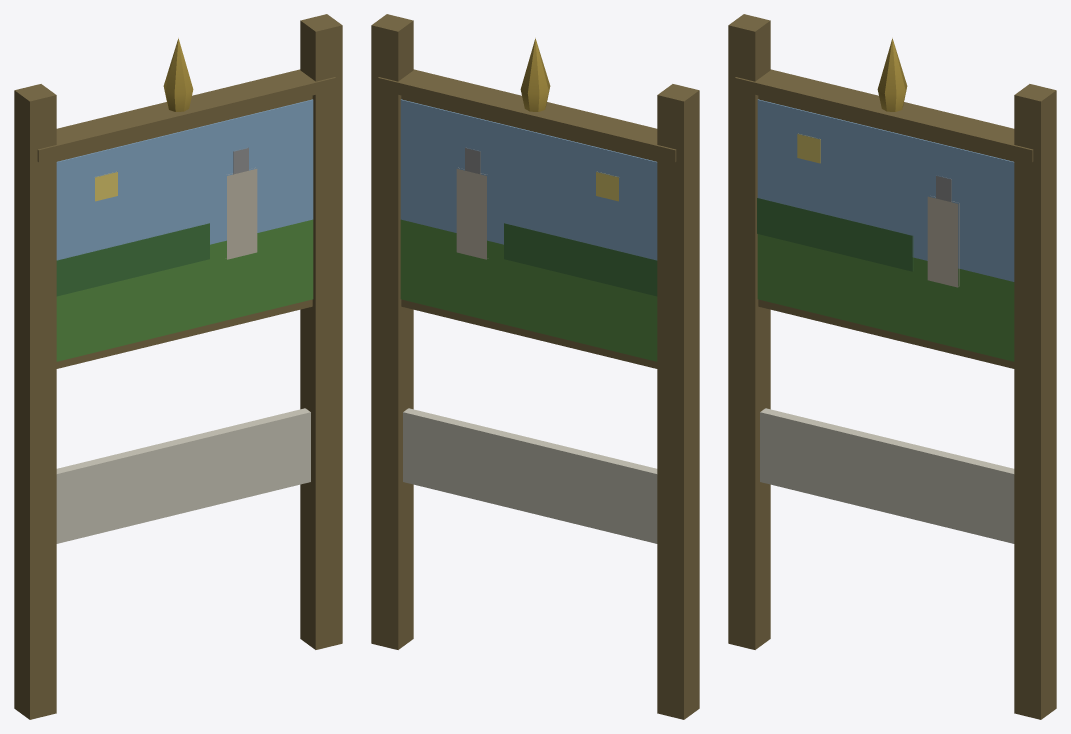
File: street.furniture.village_sign_b.glb
3 views of the same model, side by side, from view 1: azimuth 30°, elevation 25°; view 2: azimuth 150°, elevation 25°; view 3: azimuth 330°, elevation 25° (orthographic).
Visible parts, largest first — view 1: main__timber_764, main__paint_8ac, main__paint_ccb, main__paint_584, main__paint_474, main__paint_cba, main__paint_b94, main__paint_dc6; view 2: main__timber_764, main__paint_8ac, main__paint_ccb, main__paint_584, main__paint_474, main__paint_cba, main__paint_b94, main__paint_dc6; view 3: main__timber_764, main__paint_8ac, main__paint_ccb, main__paint_584, main__paint_474, main__paint_cba, main__paint_b94, main__paint_dc6.
Part boxes in pixels (x1,y1,x2,y2): main__timber_764: [14, 14, 342, 719]; main__paint_8ac: [56, 99, 313, 260]; main__paint_ccb: [56, 408, 310, 543]; main__paint_584: [56, 219, 313, 361]; main__paint_474: [56, 223, 209, 296]; main__paint_cba: [227, 167, 257, 259]; main__paint_b94: [163, 38, 193, 111]; main__paint_dc6: [95, 171, 117, 201]; main__timber_764: [371, 14, 699, 719]; main__paint_8ac: [400, 99, 657, 260]; main__paint_ccb: [403, 408, 657, 543]; main__paint_584: [400, 219, 657, 361]; main__paint_474: [504, 223, 657, 296]; main__paint_cba: [456, 167, 486, 259]; main__paint_b94: [520, 38, 550, 111]; main__paint_dc6: [596, 171, 618, 201]; main__timber_764: [728, 14, 1056, 719]; main__paint_8ac: [757, 99, 1014, 281]; main__paint_ccb: [760, 408, 1014, 543]; main__paint_584: [757, 234, 1014, 361]; main__paint_474: [757, 198, 913, 271]; main__paint_cba: [927, 196, 959, 287]; main__paint_b94: [877, 38, 907, 111]; main__paint_dc6: [797, 133, 820, 163].
Size of the model in its own units: 1.64 by 3.2 by 0.16.
